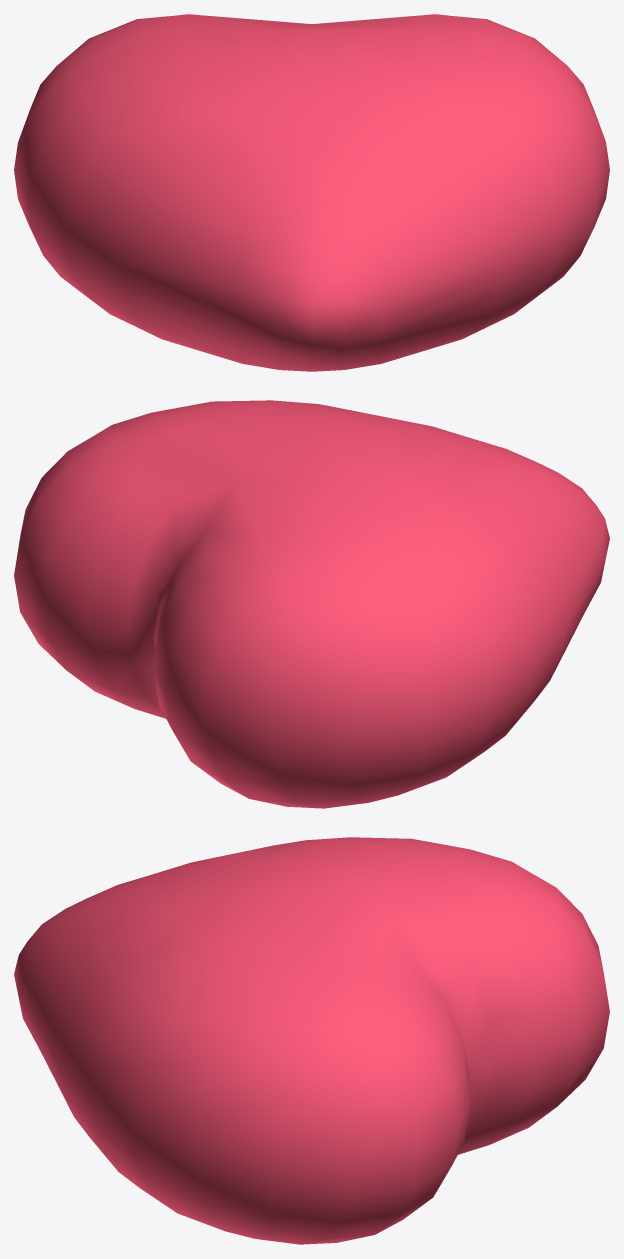
Rendered from Toy125.fbx.
The picture shows the model from 3 angles, top to bottom: view 1: azimuth 30°, elevation 25°; view 2: azimuth 150°, elevation 25°; view 3: azimuth 270°, elevation 25°; orthographic projection. The views are drawn at different scales.
Visible parts, largest first — view 1: Toy125; view 2: Toy125; view 3: Toy125.
Part boxes in pixels (<box>): Toy125: <box>14,14,609,371</box>; Toy125: <box>14,400,609,808</box>; Toy125: <box>14,837,609,1244</box>.
Size of the model in its own units: 0.1629 by 0.0883 by 0.164.
